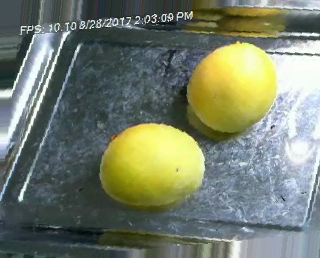Mango: (95, 119, 207, 216), (186, 37, 278, 133)
